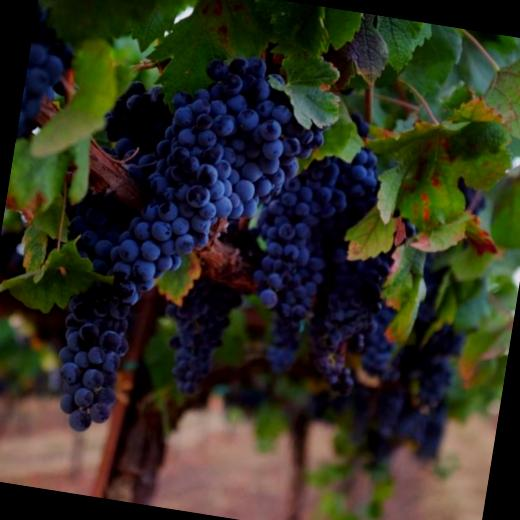Orange: (130, 39, 342, 332), (37, 63, 196, 442), (233, 96, 390, 386), (304, 146, 430, 406), (152, 213, 256, 400), (17, 0, 91, 144), (392, 309, 470, 421)
